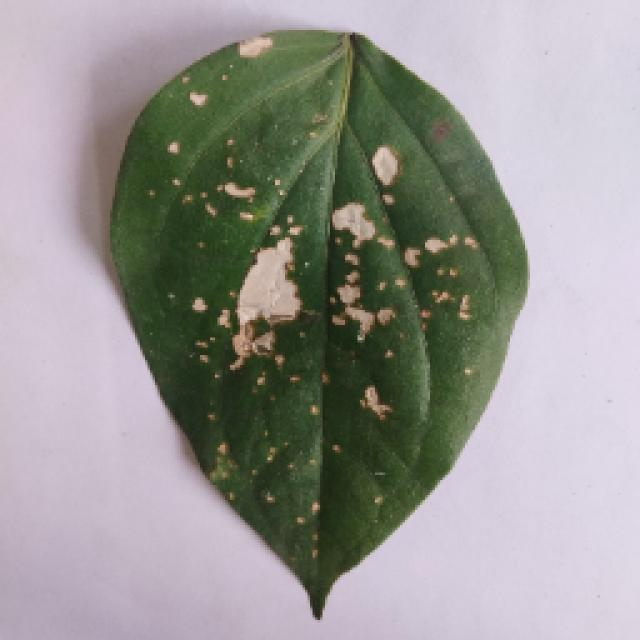pollu-disease: (72, 35, 560, 620)
